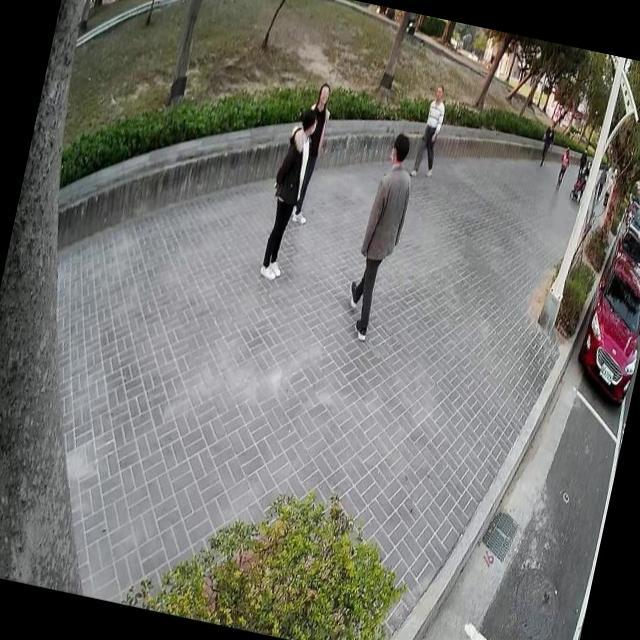person: (336, 124, 424, 347), (250, 98, 322, 282), (282, 76, 338, 230), (405, 78, 451, 183), (536, 116, 559, 170), (552, 143, 574, 193)
